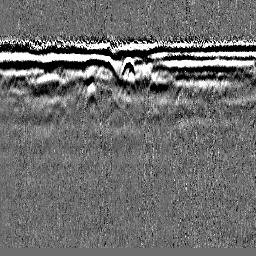cavity: (119, 56, 137, 87)
